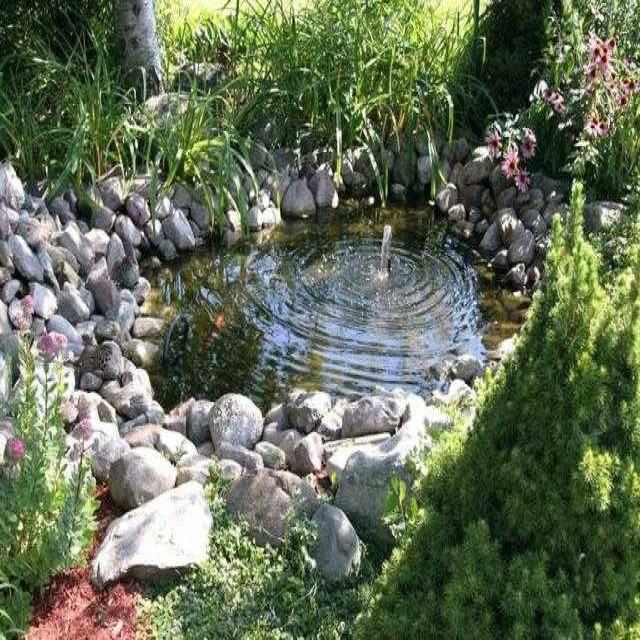Ponds: (1, 143, 554, 598)
